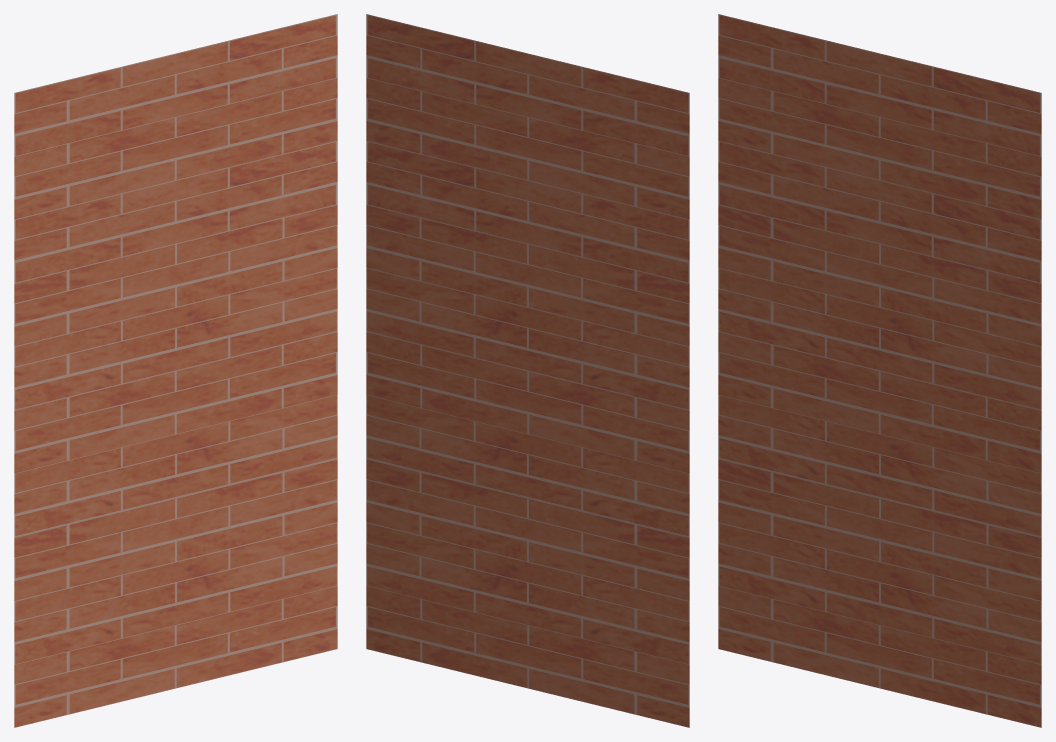
File: MT_OS_Middle_Wall_Small.fbx
3 renders of one model, left to right at view 1: azimuth 30°, elevation 25°; view 2: azimuth 150°, elevation 25°; view 3: azimuth 330°, elevation 25°, orthographic.
Parts seen in each view (by area): view 1: LP_MiddleOutsideWall.001; view 2: LP_MiddleOutsideWall.001; view 3: LP_MiddleOutsideWall.001.
Boxes of the visible parts, x1=… form: LP_MiddleOutsideWall.001: x1=14, y1=14, x2=337, y2=727; LP_MiddleOutsideWall.001: x1=366, y1=14, x2=689, y2=727; LP_MiddleOutsideWall.001: x1=718, y1=14, x2=1041, y2=727.
Size of the model in its own units: 160 by 300 by 7.75e-05.
